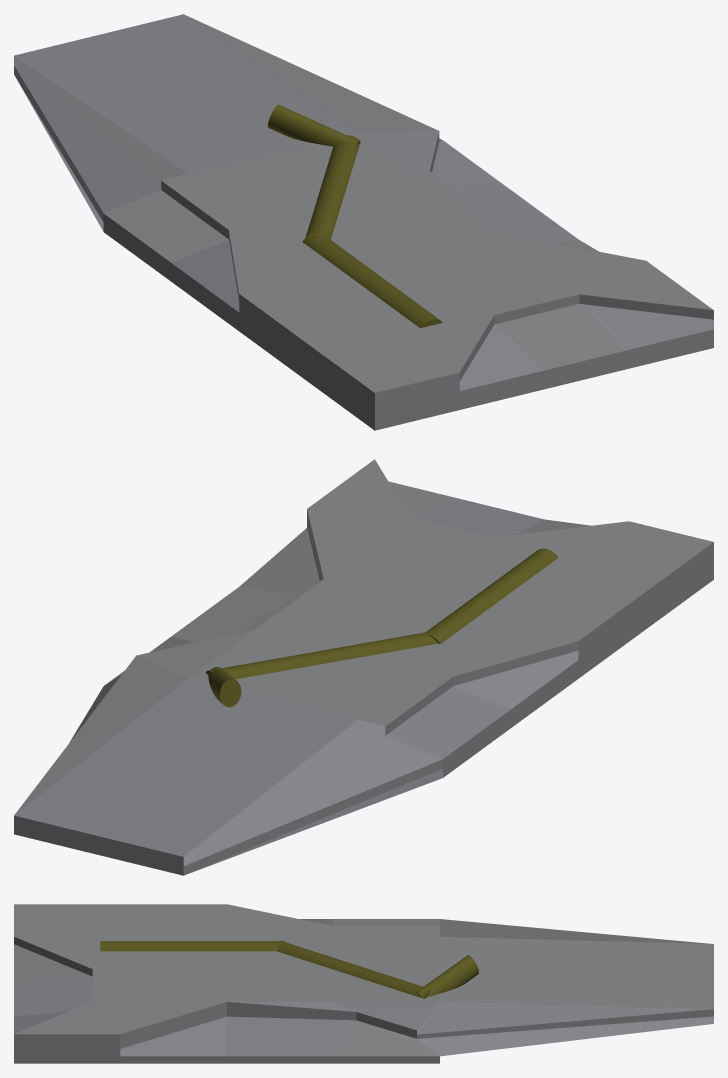
Rendered from scrap.fbx.
The picture shows the model from 3 angles, top to bottom: view 1: azimuth 30°, elevation 25°; view 2: azimuth 150°, elevation 25°; view 3: azimuth 270°, elevation 25°; orthographic projection. The views are drawn at different scales.
Visible parts, largest first — view 1: Cube, Cylinder; view 2: Cube, Cylinder; view 3: Cube, Cylinder.
Boxes of the visible parts, left/top/right/bottom form: Cube: left=14, top=14, right=713, bottom=430; Cylinder: left=267, top=104, right=442, bottom=328; Cube: left=14, top=459, right=713, bottom=875; Cylinder: left=205, top=548, right=558, bottom=707; Cube: left=14, top=904, right=713, bottom=1063; Cylinder: left=100, top=940, right=478, bottom=998.
Bounding box in the file's own units: 134 × 25.03 × 306.
